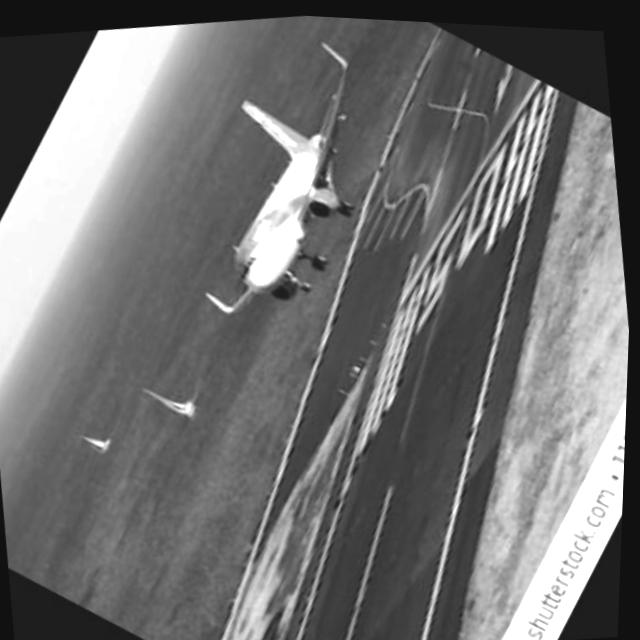aeroplane: (107, 5, 454, 376)
